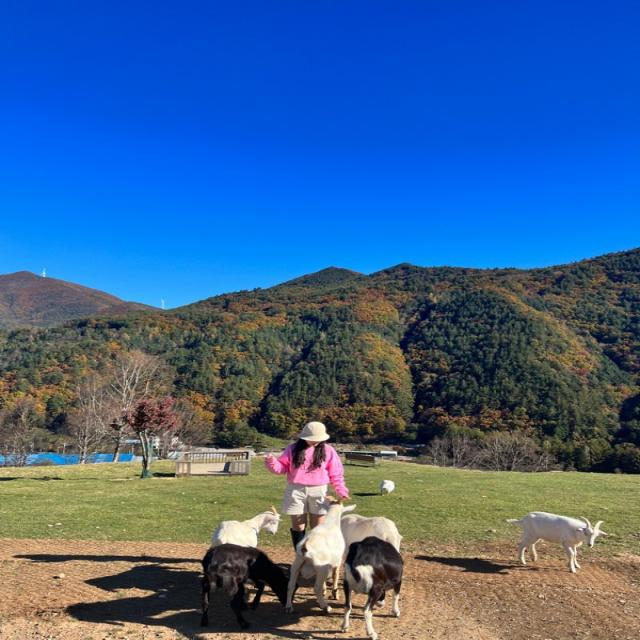mtm: (268, 438, 347, 499)
shortpants: (283, 478, 329, 516)
